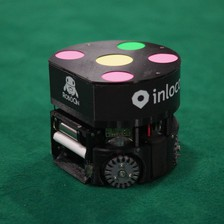robot: (40, 36, 184, 189)
